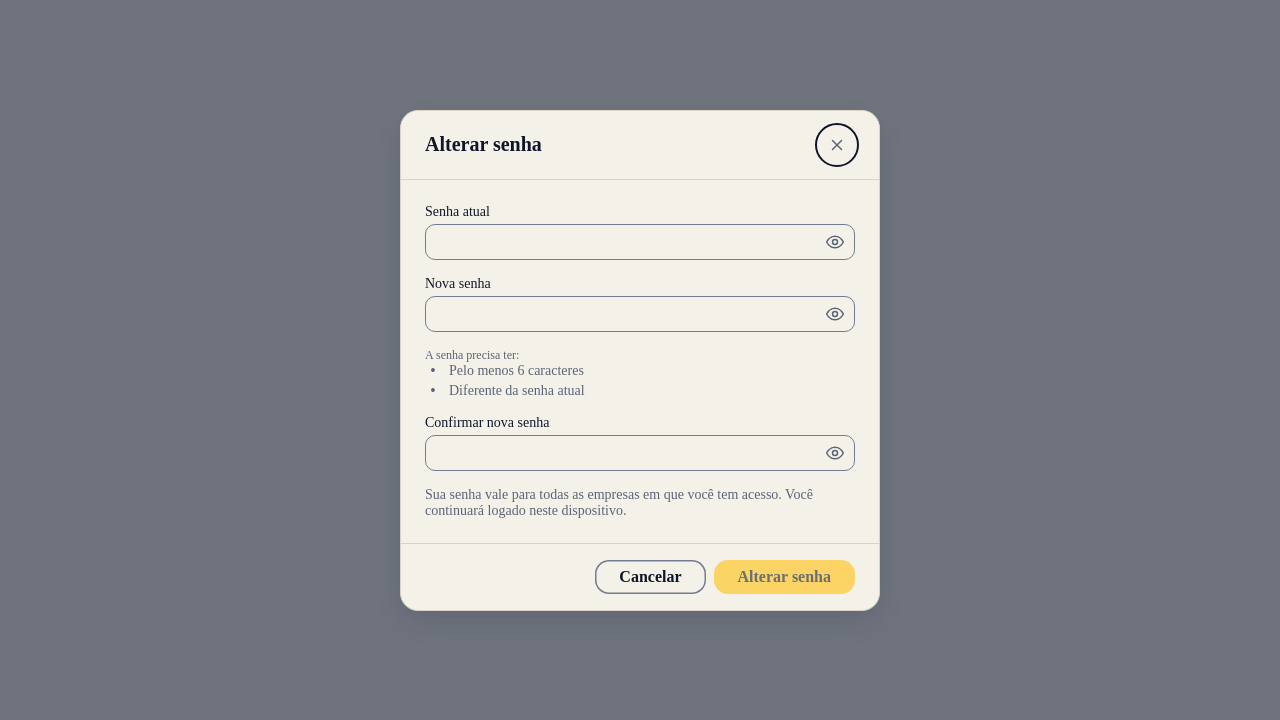
Test case: AlterarSenhaModal › outros erros da API aparecem no banner
Type "antiga1" into the password field labelled "Senha atual" at x=640, y=242, box [425,224,855,260]
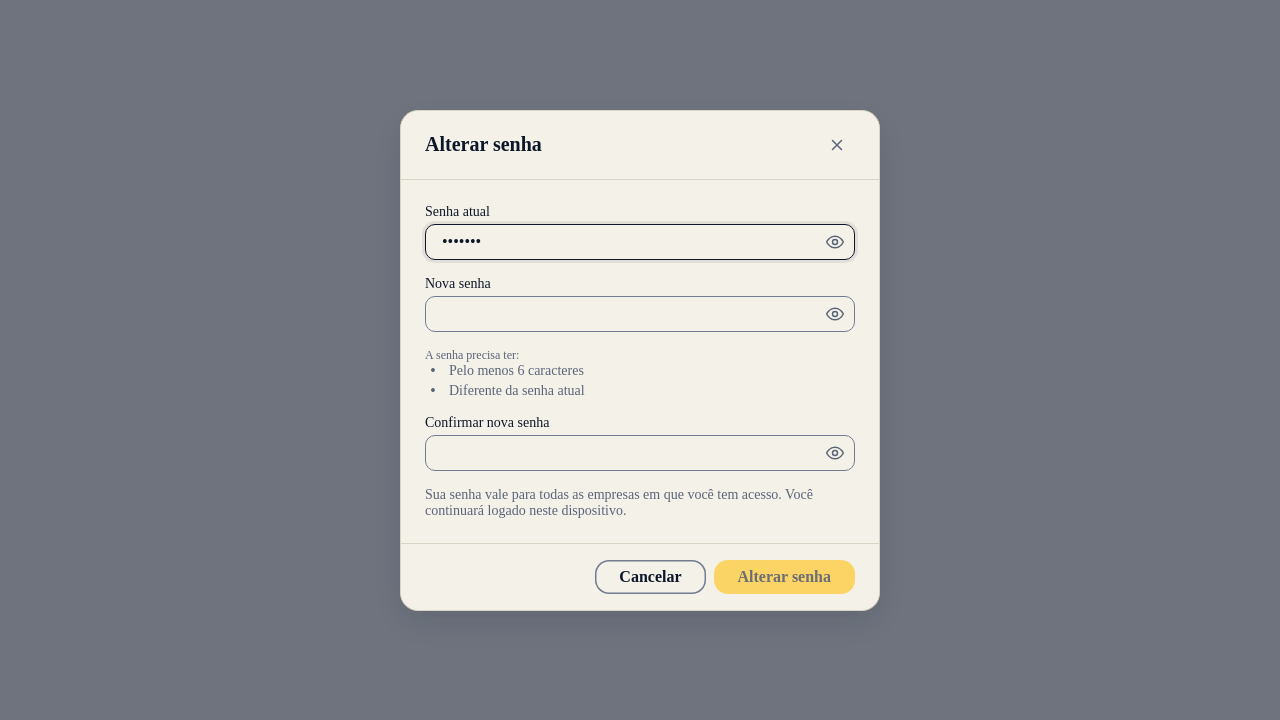
Type "nova123" into the password field labelled "Nova senha" at x=640, y=314, box [425,296,855,332]
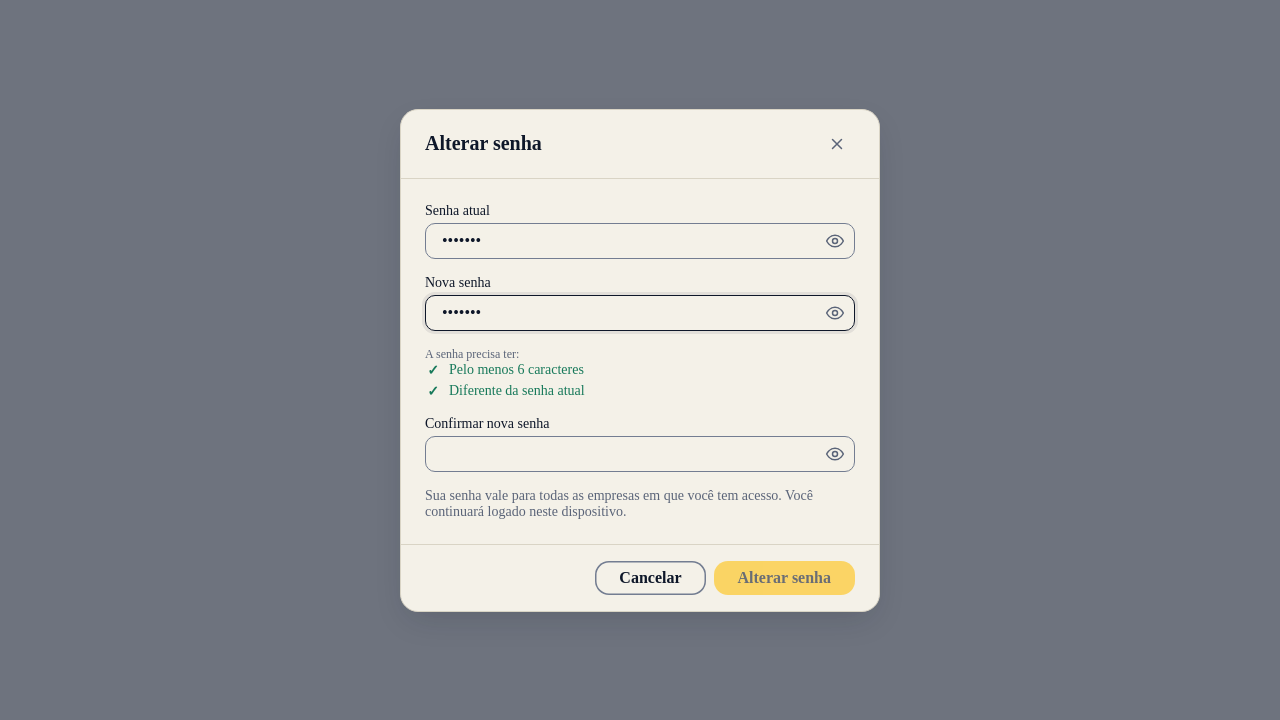
Type "nova123" into the password field labelled "Confirmar nova senha" at x=640, y=454, box [425,436,855,472]
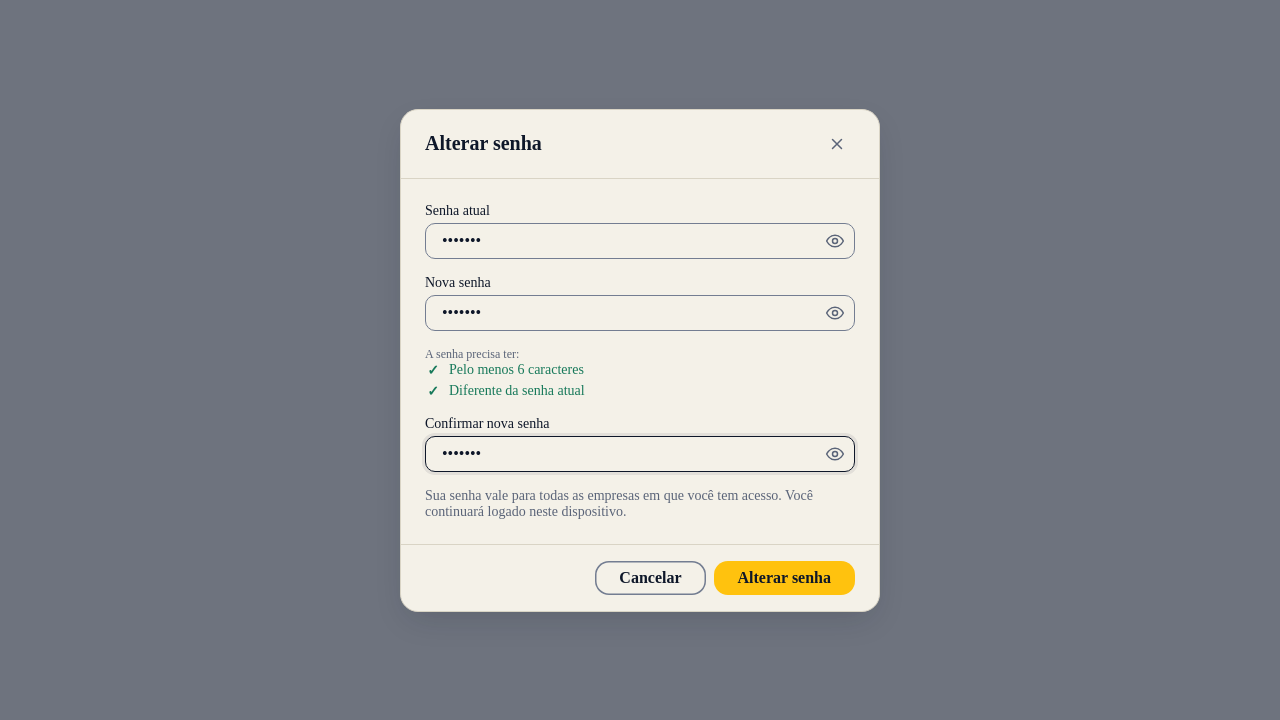
Click the button "Alterar senha" at x=784, y=578, box [714,560,855,594]
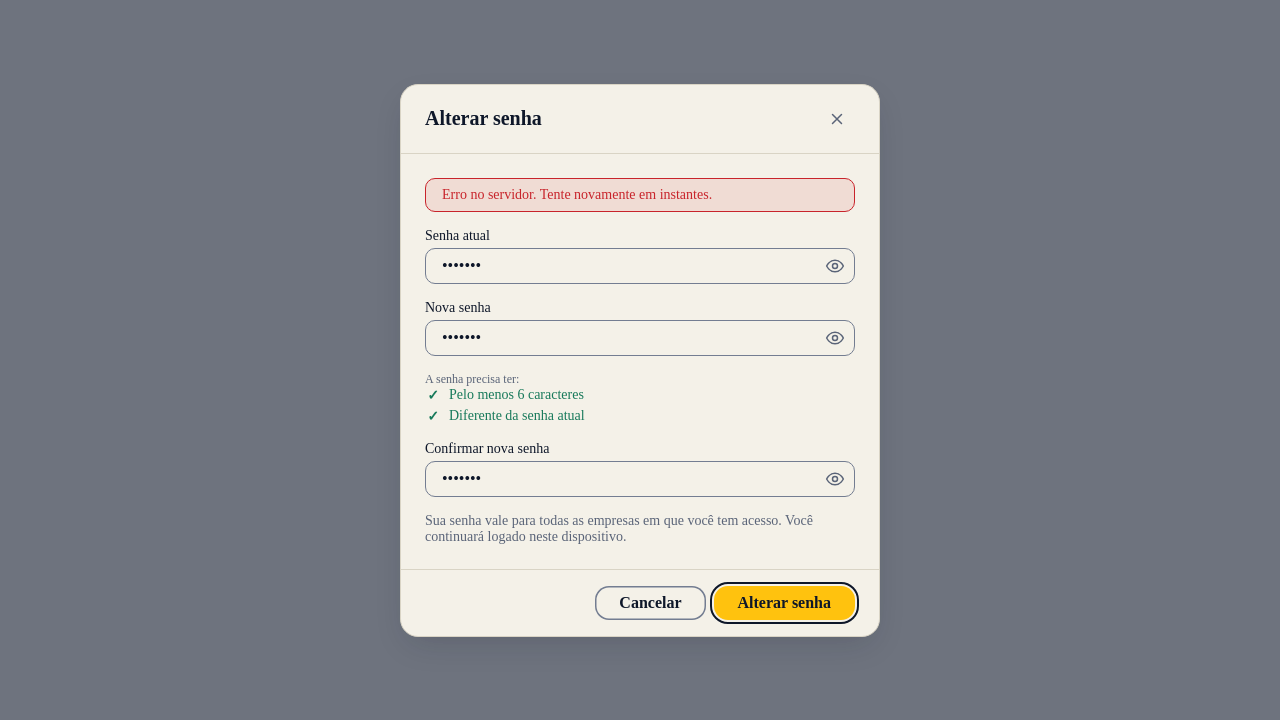
Expected: the message shows "Erro no servidor", [442,186,712,202]
